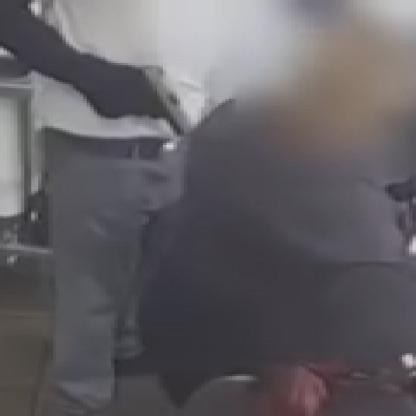weapon: (134, 60, 195, 138)
